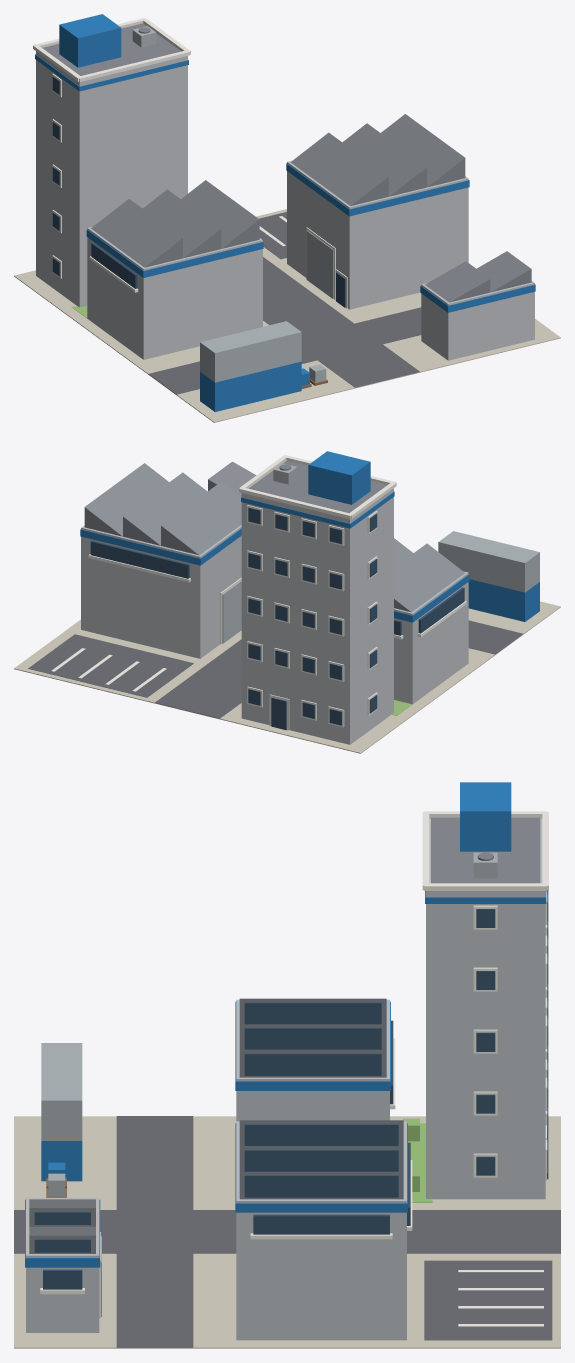
The picture shows the model from 3 angles, top to bottom: view 1: azimuth 30°, elevation 25°; view 2: azimuth 150°, elevation 25°; view 3: azimuth 270°, elevation 25°; orthographic projection. The views are drawn at different scales.
Parts seen in each view (by area): view 1: office, roof (×9), hall_east, hall_west, road (×2), yard, container (×2), workshop, cladding_band (×3), plant_room, garage_door, car_park (+3 smaller); view 2: office, roof (×6), hall_east, yard, container (×2), hall_west, car_park, road (×2), plant_room, window_band (×2), cladding_band (×2), garage_door (+4 smaller); view 3: office, road (×2), yard, skylight (×8), hall_east, roof (×9), car_park, hall_west, container (×2), workshop, cladding_band (×3), window_band (×2) (+5 smaller).
Boxes of the visible parts, x1,y1,x2,y2 form: office: [36, 51, 187, 307]; roof (×9): [42, 23, 531, 302]; hall_east: [287, 160, 468, 309]; hall_west: [87, 226, 262, 359]; road (×2): [149, 257, 421, 394]; yard: [14, 209, 560, 422]; container (×2): [200, 321, 301, 411]; workshop: [421, 281, 534, 360]; cladding_band (×3): [86, 163, 535, 312]; plant_room: [59, 14, 121, 67]; garage_door: [306, 230, 333, 298]; car_park: [259, 212, 286, 259]; office: [241, 488, 393, 744]; roof (×6): [84, 460, 464, 612]; hall_east: [81, 525, 241, 658]; yard: [14, 601, 560, 753]; container (×2): [438, 531, 539, 621]; hall_west: [394, 571, 468, 704]; car_park: [28, 634, 193, 697]; road (×2): [155, 620, 522, 718]; plant_room: [308, 451, 370, 504]; window_band (×2): [90, 540, 464, 633]; cladding_band (×2): [80, 528, 469, 622]; garage_door: [222, 580, 241, 643]; office: [426, 818, 545, 1199]; road (×2): [14, 1116, 560, 1347]; yard: [14, 1116, 560, 1348]; skylight (×8): [34, 1002, 398, 1252]; hall_east: [236, 1121, 406, 1340]; roof (×9): [29, 817, 540, 1253]; car_park: [424, 1260, 552, 1340]; hall_west: [236, 999, 389, 1121]; container (×2): [41, 1043, 82, 1181]; workshop: [26, 1197, 99, 1332]; cladding_band (×3): [25, 1001, 407, 1267]; window_band (×2): [43, 1214, 389, 1289].
Size of the model in its own units: 32 by 22.79 by 32.
